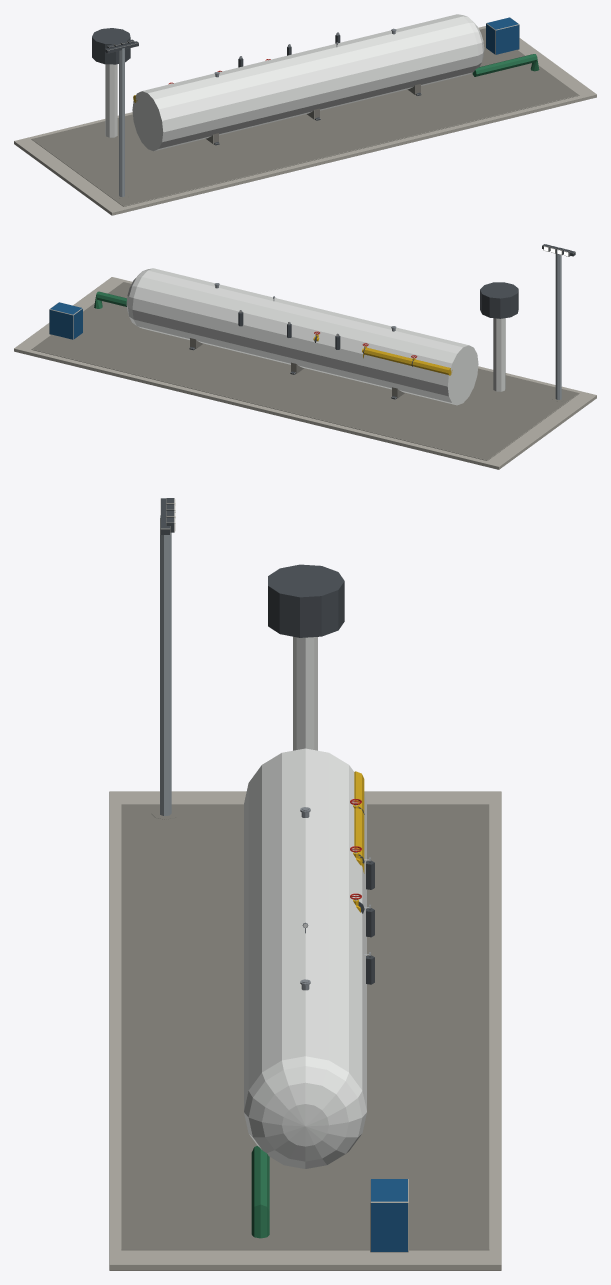
The model's file is mid_slug_catcher.glb.
3 views of the same model, one above another, from view 1: azimuth 30°, elevation 25°; view 2: azimuth 150°, elevation 25°; view 3: azimuth 270°, elevation 25° (orthographic). The views are drawn at different scales.
Parts seen in each view (by area): view 1: mid_slug_catcher; view 2: mid_slug_catcher; view 3: mid_slug_catcher.
Part boxes in pixels (left/top/right/bottom): mid_slug_catcher: left=14, top=14, right=596, bottom=215; mid_slug_catcher: left=14, top=244, right=596, bottom=469; mid_slug_catcher: left=109, top=498, right=501, bottom=1270.
Bounding box in the file's own units: 40 × 12.25 × 14.
